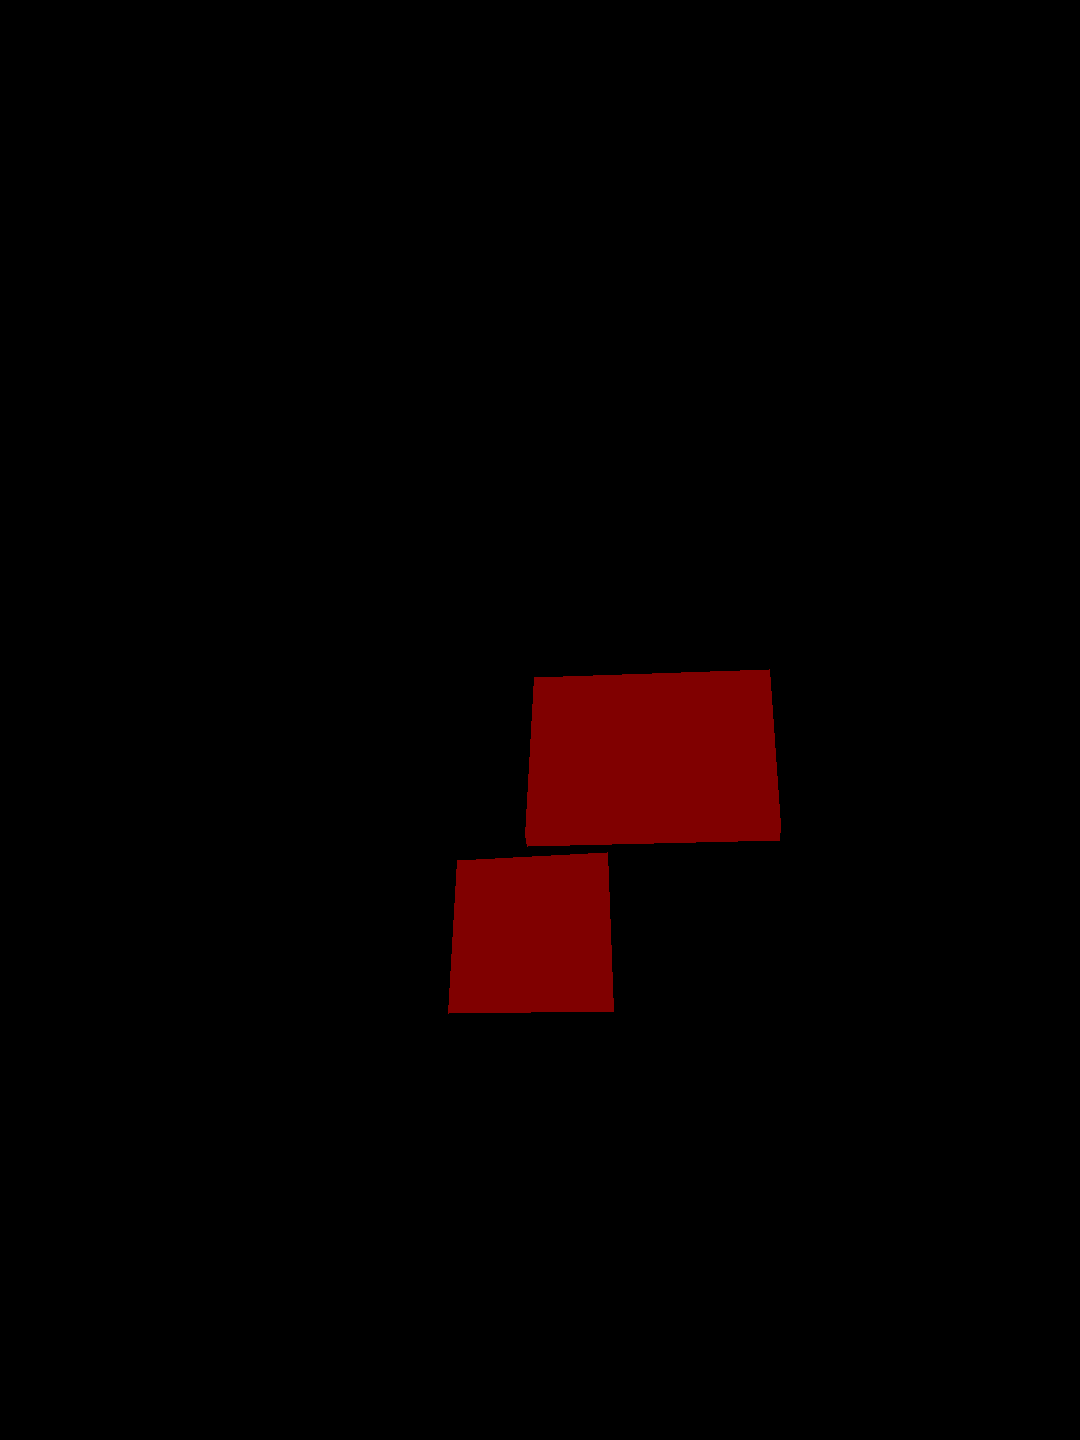sign: (525, 669, 781, 846), (448, 852, 613, 1013)
